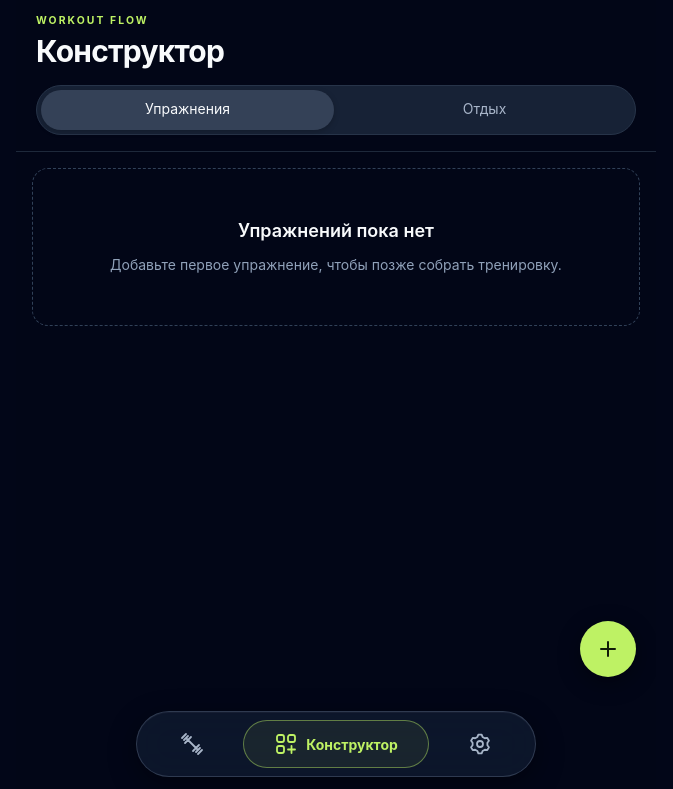
exercise catalog › creates a valid exercise and shows it without randomUUID
Expected: the heading "Упражнений пока нет" is shown, [238,220,434,241]
Step 1. Click the button named "Добавить упражнение" → (608, 649), box [580,621,636,677]
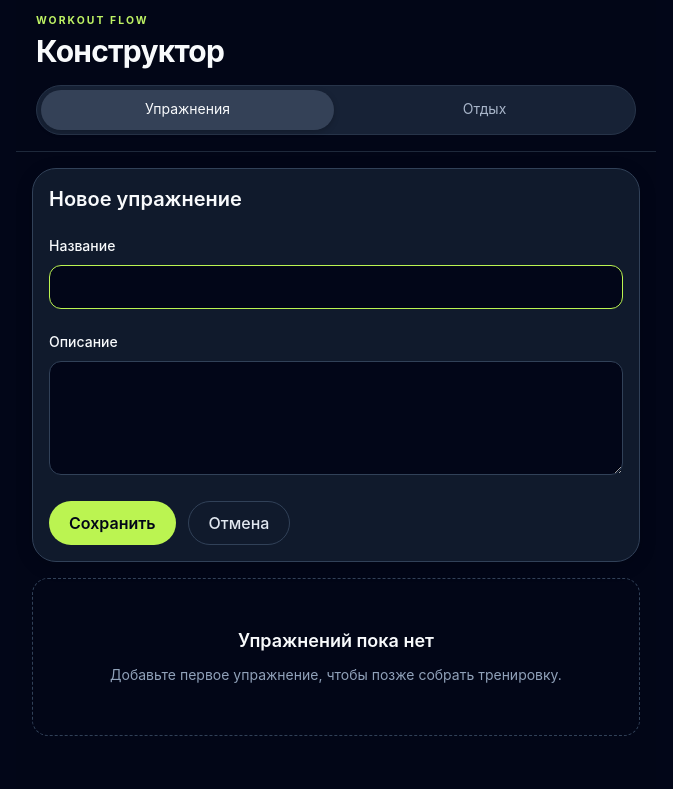
Step 2. Type "  Отжимания  " into the field labelled "Название" → (336, 287), box [49,265,623,309]
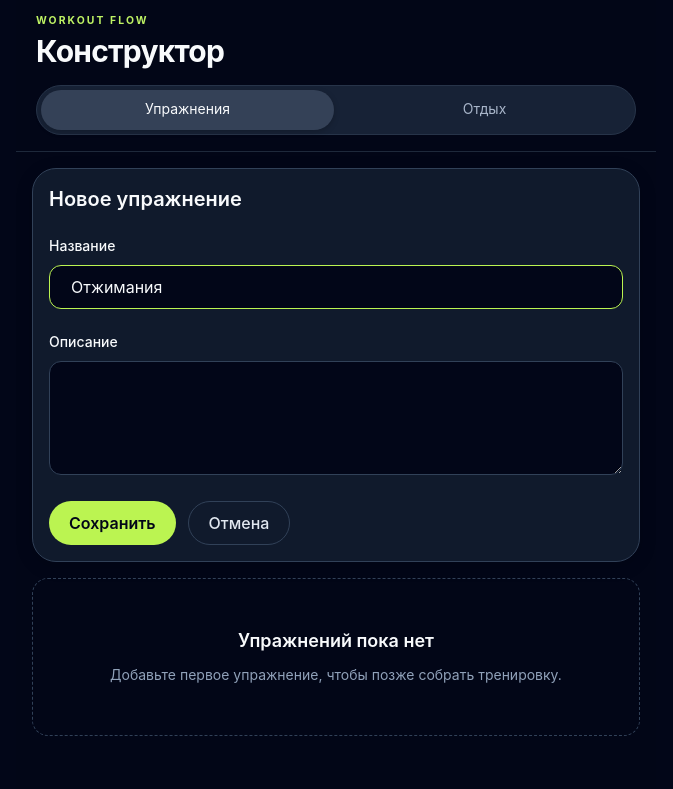
Step 3. Type "  Корпус держать ровно.  " into the text box labelled "Описание" → (336, 418), box [49,361,623,475]
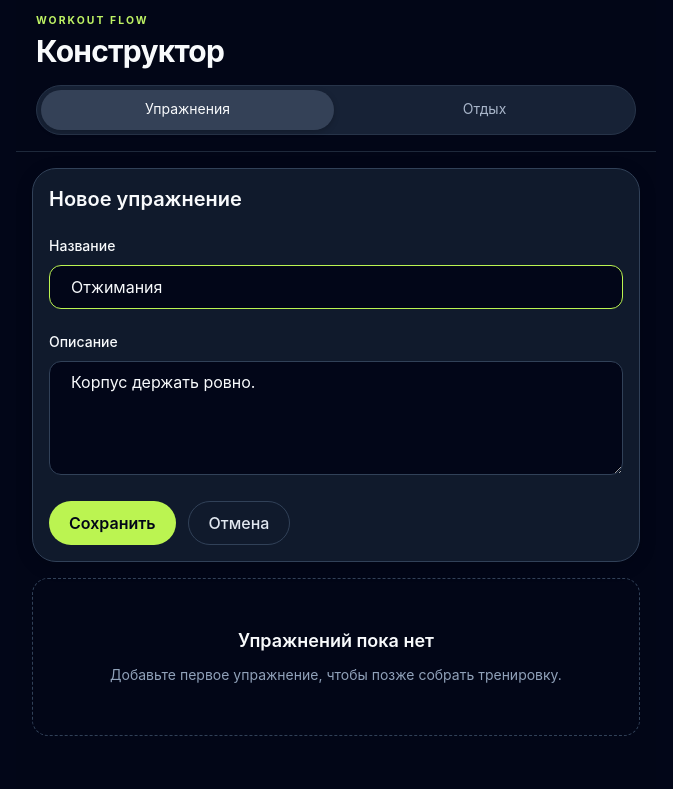
Step 4. Click the button "Сохранить" → (112, 523), box [49,501,176,545]
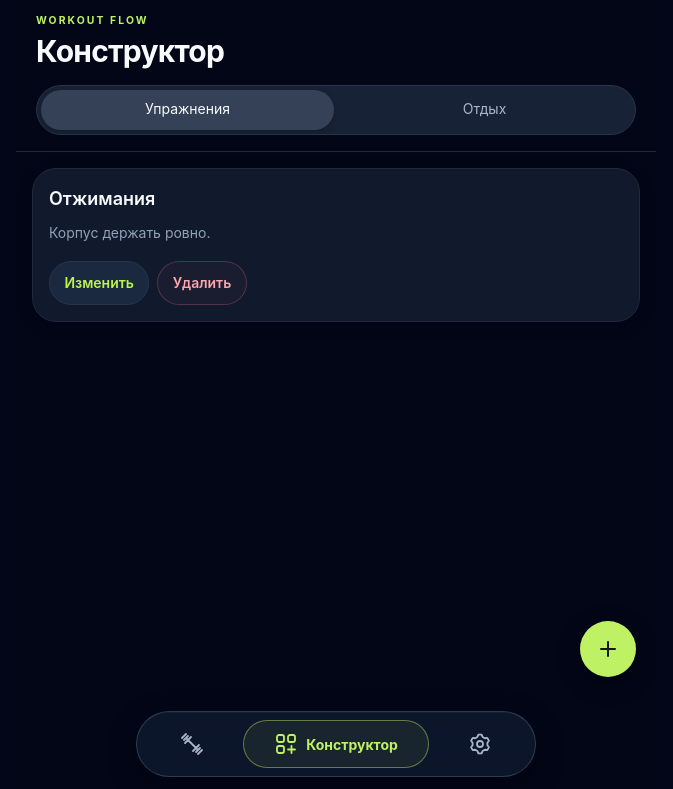
Expected: the heading "Отжимания" is shown, [49,188,155,209]
Expected: the text "Корпус держать ровно." is shown, [49,224,210,241]
Expected: the heading "Новое упражнение" is gone
